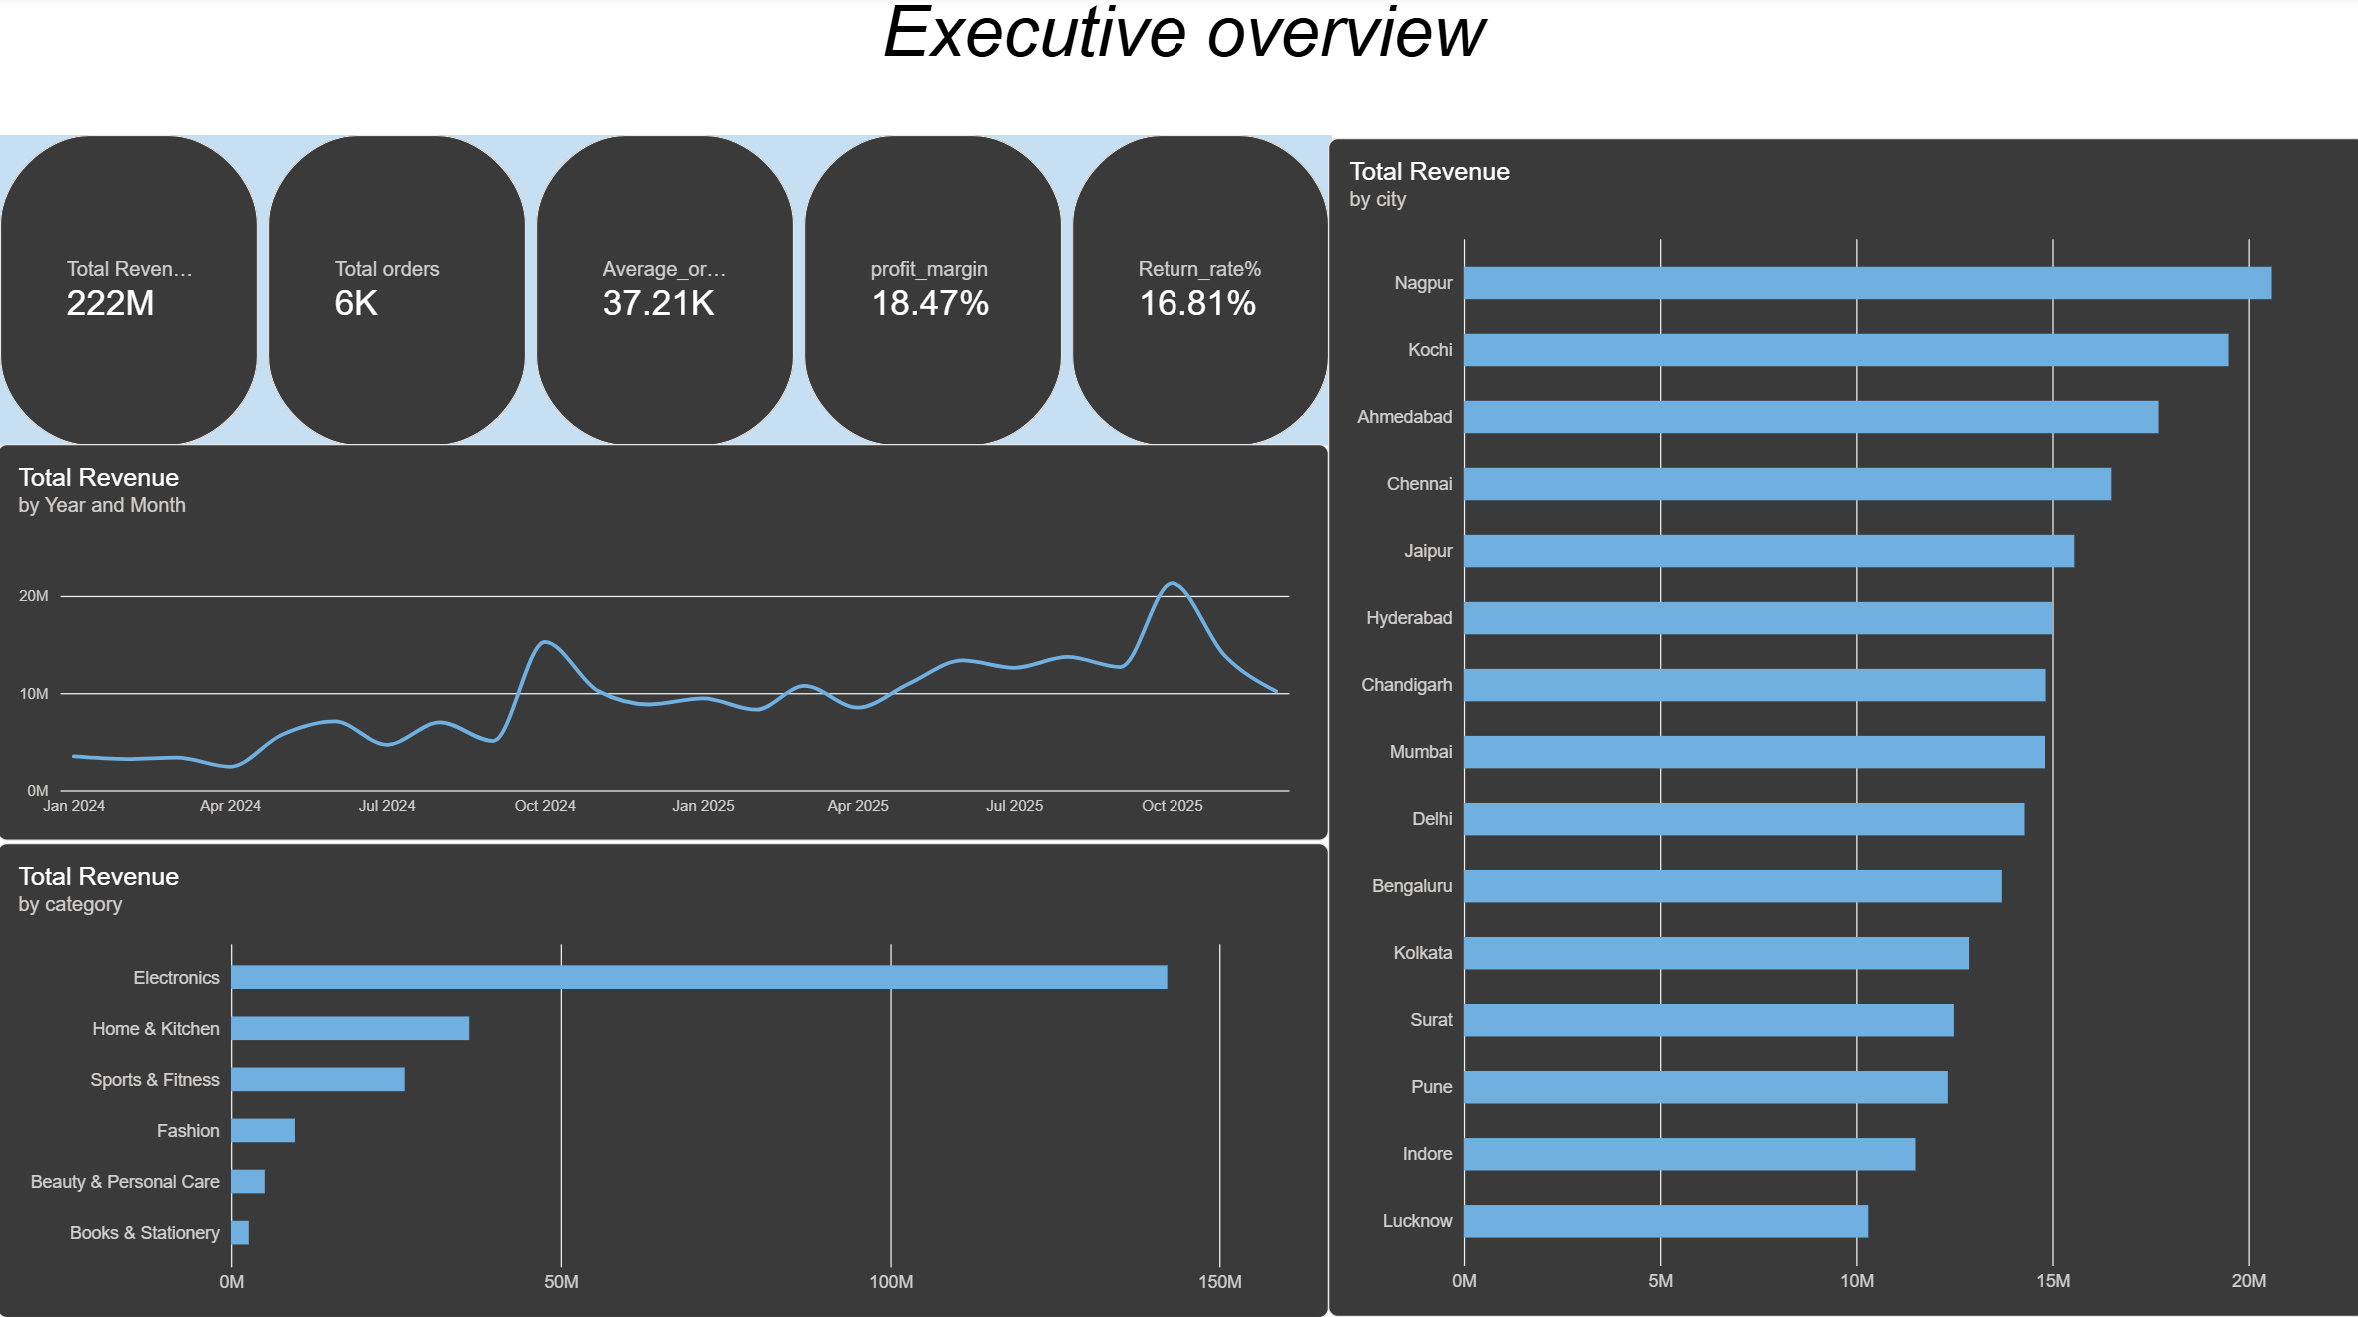

The dashboard page shown, as its layout file describes it:
{"tool":"powerbi","page":{"name":"Overview","canvas":[1920,1080],"ordinal":0},"visuals":[{"type":"cardVisual","fields":{"Data":["fact_sales.Total Revenue","fact_sales.Total orders","fact_sales.Average_order_value","fact_sales.profit_margin","fact_sales.Return_rate%"]},"box":[2.8,113.6,1059.4,247.1],"z":0},{"type":"lineChart","fields":{"Category":["fact_sales.order_date.Variation.Date Hierarchy.Year","fact_sales.order_date.Variation.Date Hierarchy.Month"],"Y":["fact_sales.Total Revenue"]},"box":[0,360.7,1059.4,315.3],"z":1000},{"type":"clusteredBarChart","fields":{"Category":["fact_sales.category"],"Y":["fact_sales.Total Revenue"]},"box":[0,676,1059.4,377.8],"z":2000},{"type":"clusteredBarChart","fields":{"Category":["fact_sales.city"],"Y":["fact_sales.Total Revenue"]},"box":[1058.5,116.8,824.9,937],"z":3000},{"type":"textbox","box":[2.8,0,1880.2,113.6],"z":4000}]}

Visuals, with their boxes in screenshot pixels (x1, y1, x2, y2), scaled from the page's 1920x1080 canvas onto the 2358x1317 screenshot:
cardVisual - fact_sales.Total Revenue x fact_sales.Total orders: bbox(3, 139, 1305, 440)
lineChart - fact_sales.order_date.Variation.Date Hierarchy.Year x fact_sales.order_date.Variation.Date Hierarchy.Month: bbox(0, 440, 1301, 824)
clusteredBarChart - fact_sales.category x fact_sales.Total Revenue: bbox(0, 824, 1301, 1285)
clusteredBarChart - fact_sales.city x fact_sales.Total Revenue: bbox(1300, 142, 2313, 1285)
textbox: bbox(3, 0, 2313, 139)
